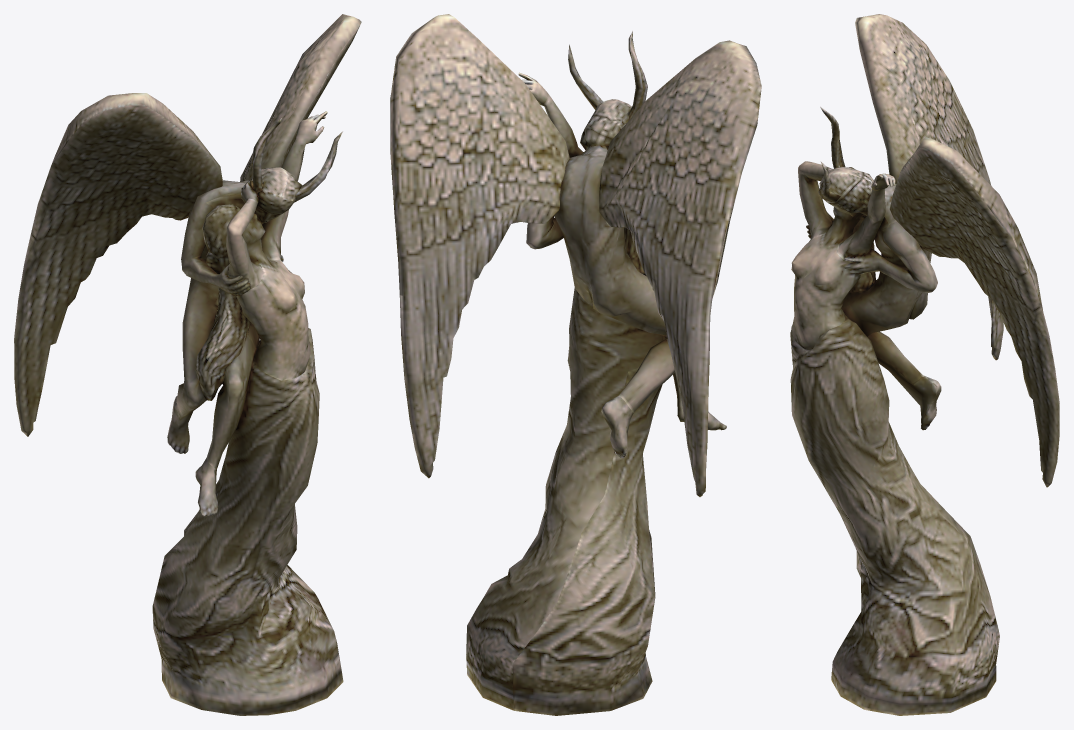
File: Effigy_Build_LostTemple_002.FBX
3 views of the same model, side by side, from view 1: azimuth 30°, elevation 25°; view 2: azimuth 150°, elevation 25°; view 3: azimuth 270°, elevation 25° (orthographic). The views are drawn at different scales.
Parts seen in each view (by area): view 1: Effigy_Build_LostTemple_002; view 2: Effigy_Build_LostTemple_002; view 3: Effigy_Build_LostTemple_002.
Boxes of the visible parts, x1,y1,x2,y2 form: Effigy_Build_LostTemple_002: (14,14,361,715); Effigy_Build_LostTemple_002: (390,14,761,715); Effigy_Build_LostTemple_002: (790,14,1059,715).
Size of the model in its own units: 304 by 573 by 235.
Materials: 1 (1 with a texture image).
